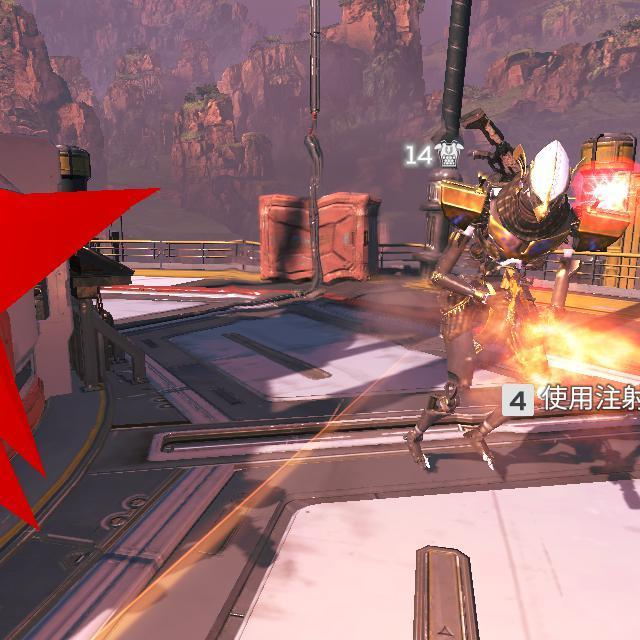avatar: (401, 138, 583, 479)
object: (572, 153, 640, 233)
